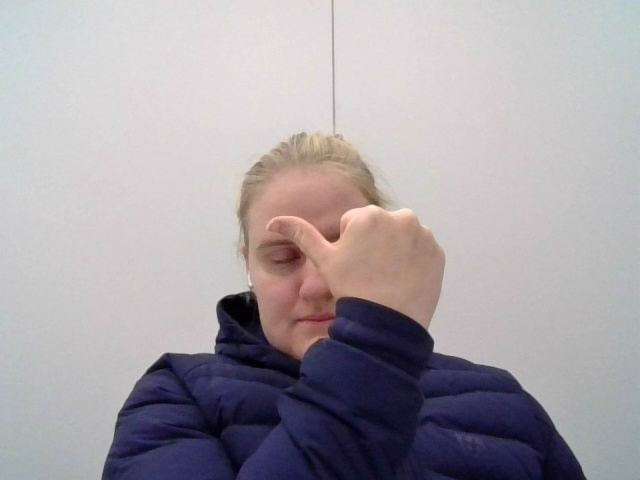right: (257, 188, 468, 342)
